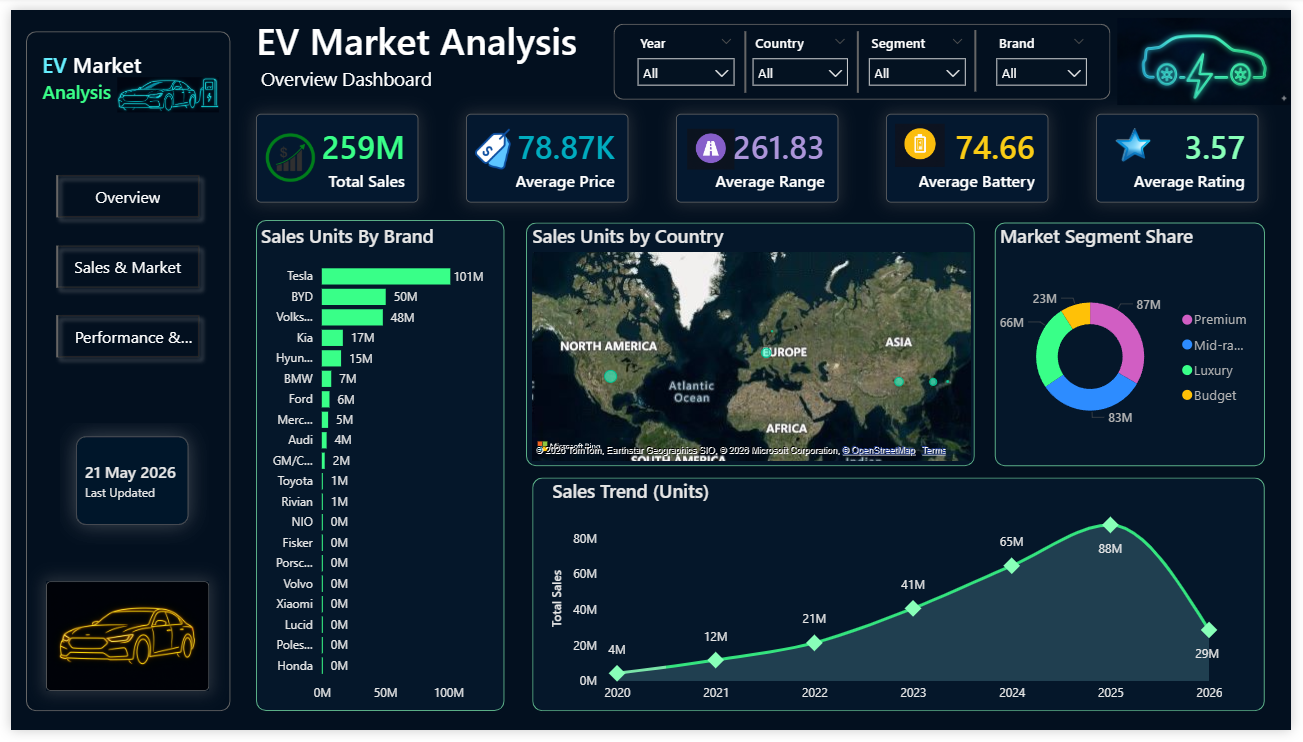

This screenshot's page, from the dashboard's own definition file:
{"tool":"powerbi","page":{"name":"Overview","canvas":[1280,720],"ordinal":0},"visuals":[{"type":"textbox","box":[230,0,467.8,70],"z":0},{"type":"cardVisual","fields":{"Data":["ev_market_2026 (2).Average Rating"]},"box":[1085.6,103.3,162.2,88.9],"z":1000},{"type":"cardVisual","fields":{"Data":["ev_market_2026 (2).Total Sales"]},"box":[244.4,103.3,162.2,88.9],"z":2000},{"type":"cardVisual","fields":{"Data":["ev_market_2026 (2).Average Price"]},"box":[454.7,103.3,162.2,88.9],"z":3000},{"type":"cardVisual","fields":{"Data":["ev_market_2026 (2).Average Range"]},"box":[665,103.3,162.2,88.9],"z":4000},{"type":"cardVisual","fields":{"Data":["ev_market_2026 (2).Average Battery"]},"box":[875.6,103.3,162.2,88.9],"z":5000},{"type":"shape","box":[15.6,21.1,204.4,680],"z":6000},{"type":"textbox","box":[244.4,51.1,182.2,38.9],"z":7000},{"type":"textbox","box":[26.7,35.6,111.1,94.4],"z":8000},{"type":"image","box":[244.4,120,68.9,55.6],"z":9000},{"type":"image","box":[454.4,118.9,53.3,41.1],"z":10000},{"type":"image","box":[1098.9,110,47.8,50],"z":11000},{"type":"shape","box":[602,13.3,497.1,76],"z":12000},{"type":"slicer","fields":{"Values":["ev_market_2026 (2).year"]},"box":[616.5,19.3,117,62.7],"z":13000},{"type":"slicer","fields":{"Values":["ev_market_2026 (2).market_segment"]},"box":[846.9,19.3,117,62.7],"z":14000},{"type":"slicer","fields":{"Values":["ev_market_2026 (2).country_of_origin"]},"box":[731.1,19.3,115.8,62.7],"z":15000},{"type":"slicer","fields":{"Values":["ev_market_2026 (2).brand"]},"box":[974.8,19.3,111,62.7],"z":16000},{"type":"shape","box":[698.5,21.7,71.2,61.5],"z":17000},{"type":"shape","box":[810.7,21.7,71.2,61.5],"z":18000},{"type":"shape","box":[929,20.5,71.2,61.5],"z":19000},{"type":"pageNavigator","box":[36.2,156.2,161.2,200],"z":20000},{"type":"image","box":[1106.3,6,173.7,90.5],"z":21000},{"type":"image","box":[664.7,118.2,70,41],"z":22000},{"type":"image","box":[106.2,60.3,101.3,49.5],"z":23000},{"type":"image","box":[881.9,113.4,53.1,43.4],"z":24000},{"type":"image","box":[35,570.6,162.9,109.8],"z":25000},{"type":"shape","box":[244.9,209.9,248.5,491],"z":26000},{"type":"shape","box":[515.2,212.3,448.8,243.7],"z":27000},{"type":"clusteredBarChart","title":"Sales Units By Brand","fields":{"Category":["ev_market_2026 (2).brand"],"Y":["ev_market_2026 (2).Total Sales"]},"box":[245,212.5,248.8,488.8],"z":28000},{"type":"map","title":"Sales Units by Country","fields":{"Category":["ev_market_2026 (2).country_of_origin"],"Size":["ev_market_2026 (2).Total Sales"]},"box":[516.4,212.3,448.8,243.7],"z":29000},{"type":"shape","box":[521.2,467.5,732.5,233.8],"z":30000},{"type":"shape","box":[983.2,212.3,270.2,243.7],"z":31000},{"type":"donutChart","title":"Market Segment Share","fields":{"Category":["ev_market_2026 (2).market_segment"],"Y":["ev_market_2026 (2).Total Sales"]},"box":[983.2,212.3,270.2,243.7],"z":32000},{"type":"lineChart","title":"Sales Trend (Units)","fields":{"Category":["ev_market_2026 (2).year"],"Y":["ev_market_2026 (2).Total Sales"]},"box":[536.2,467.5,680,233.8],"z":33000},{"type":"shape","box":[45,406.2,152.5,128.8],"z":34000},{"type":"cardVisual","fields":{"Data":["ev_market_2026 (2).Last Updated"]},"box":[45,420,152.5,101.2],"z":35000}]}

Visuals, with their boxes in screenshot pixels (x1, y1, x2, y2), scaled from the page's 1280x720 canvas onto the 1303x742 screenshot:
textbox: 234 0 710 72
cardVisual - ev_market_2026 (2).Average Rating: 1105 106 1270 198
cardVisual - ev_market_2026 (2).Total Sales: 249 106 414 198
cardVisual - ev_market_2026 (2).Average Price: 463 106 628 198
cardVisual - ev_market_2026 (2).Average Range: 677 106 842 198
cardVisual - ev_market_2026 (2).Average Battery: 891 106 1056 198
shape: 16 22 224 723
textbox: 249 53 434 93
textbox: 27 37 140 134
image: 249 124 319 181
image: 463 123 517 165
image: 1119 113 1167 165
shape: 613 14 1119 92
slicer - ev_market_2026 (2).year: 628 20 747 85
slicer - ev_market_2026 (2).market_segment: 862 20 981 85
slicer - ev_market_2026 (2).country_of_origin: 744 20 862 85
slicer - ev_market_2026 (2).brand: 992 20 1105 85
shape: 711 22 784 86
shape: 825 22 898 86
shape: 946 21 1018 85
pageNavigator: 37 161 201 367
image: 1126 6 1302 99
image: 677 122 748 164
image: 108 62 211 113
image: 898 117 952 162
image: 36 588 201 701
shape: 249 216 502 722
shape: 524 219 981 470
"Sales Units By Brand" clusteredBarChart: 249 219 503 723
"Sales Units by Country" map: 526 219 983 470
shape: 531 482 1276 723
shape: 1001 219 1276 470
"Market Segment Share" donutChart: 1001 219 1276 470
"Sales Trend (Units)" lineChart: 546 482 1238 723
shape: 46 419 201 551
cardVisual - ev_market_2026 (2).Last Updated: 46 433 201 537
